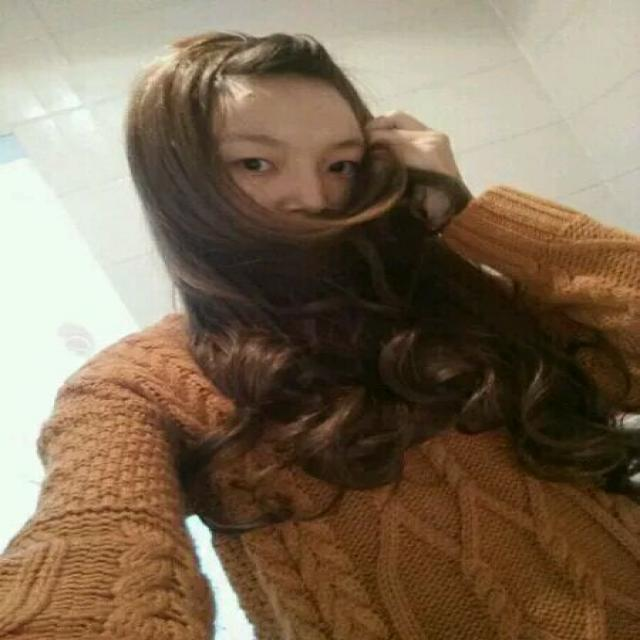nomask: (203, 74, 366, 278)
